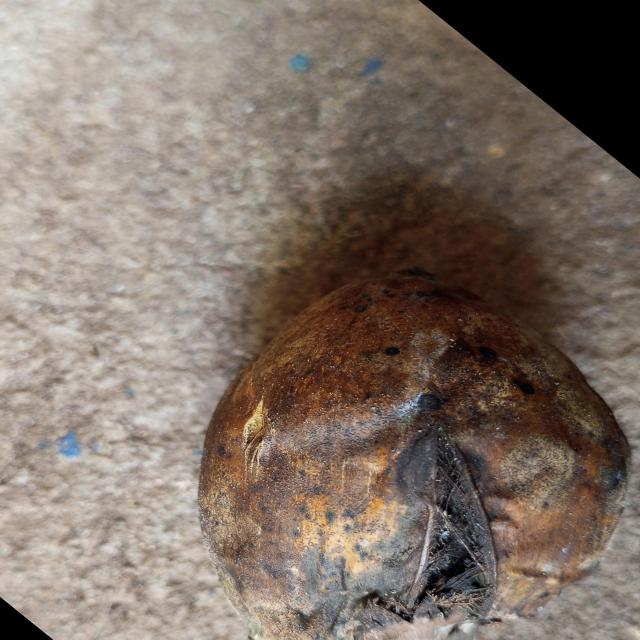damaged: (198, 246, 628, 640)
